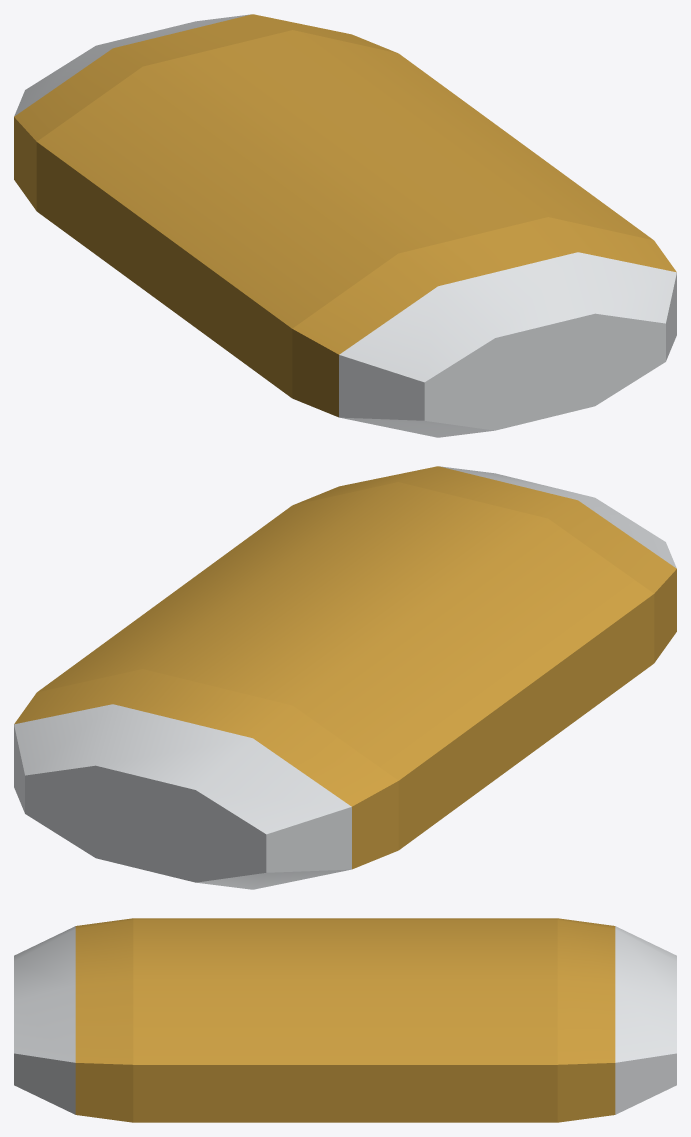
Rendered from hr1_board.obj.
3 renders of one model, top to bottom at view 1: azimuth 30°, elevation 25°; view 2: azimuth 150°, elevation 25°; view 3: azimuth 270°, elevation 25°, orthographic. The views are drawn at different scales.
Visible parts, largest first — view 1: hr1_board; view 2: hr1_board; view 3: hr1_board.
Part boxes in pixels (left/top/right/bottom): hr1_board: left=14, top=14, right=676, bottom=437; hr1_board: left=14, top=466, right=676, bottom=889; hr1_board: left=14, top=918, right=676, bottom=1122.
Bounding box in the file's own units: 0.9 × 0.4 × 1.72.
